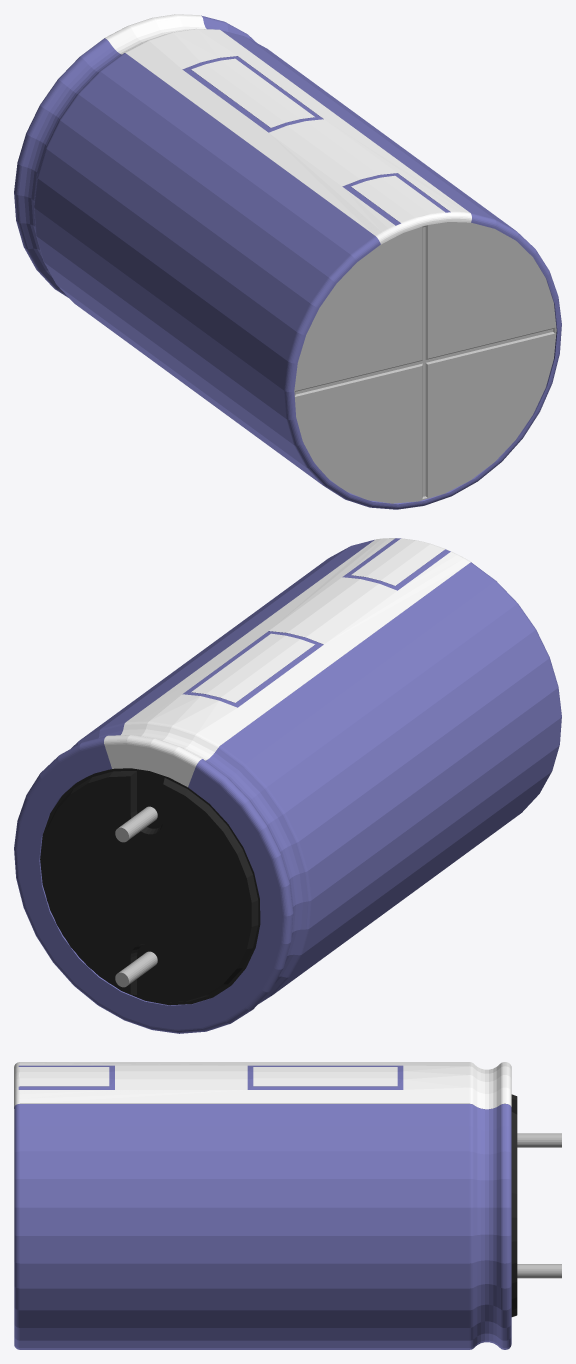
The model's file is cap_el_d20_h35_pitch10_w1.obj.
3 renders of one model, top to bottom at view 1: azimuth 30°, elevation 25°; view 2: azimuth 150°, elevation 25°; view 3: azimuth 270°, elevation 25°, orthographic. The views are drawn at different scales.
Visible parts, largest first — view 1: cap_el_d20_h35_pitch10_w1; view 2: cap_el_d20_h35_pitch10_w1; view 3: cap_el_d20_h35_pitch10_w1.
Boxes of the visible parts, x1,y1,x2,y2 form: cap_el_d20_h35_pitch10_w1: (14,14,561,509); cap_el_d20_h35_pitch10_w1: (14,538,561,1033); cap_el_d20_h35_pitch10_w1: (14,1062,561,1349).
Size of the model in its own units: 0.0154 by 0.0154 by 0.0293.
